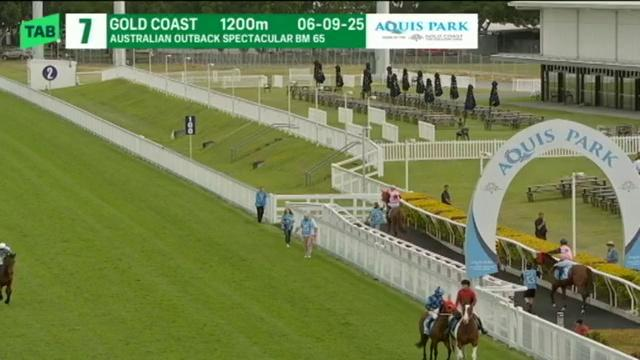racing-horse: (534, 236, 599, 314), (413, 282, 460, 360), (452, 267, 488, 360), (377, 184, 408, 242), (0, 239, 24, 312)
